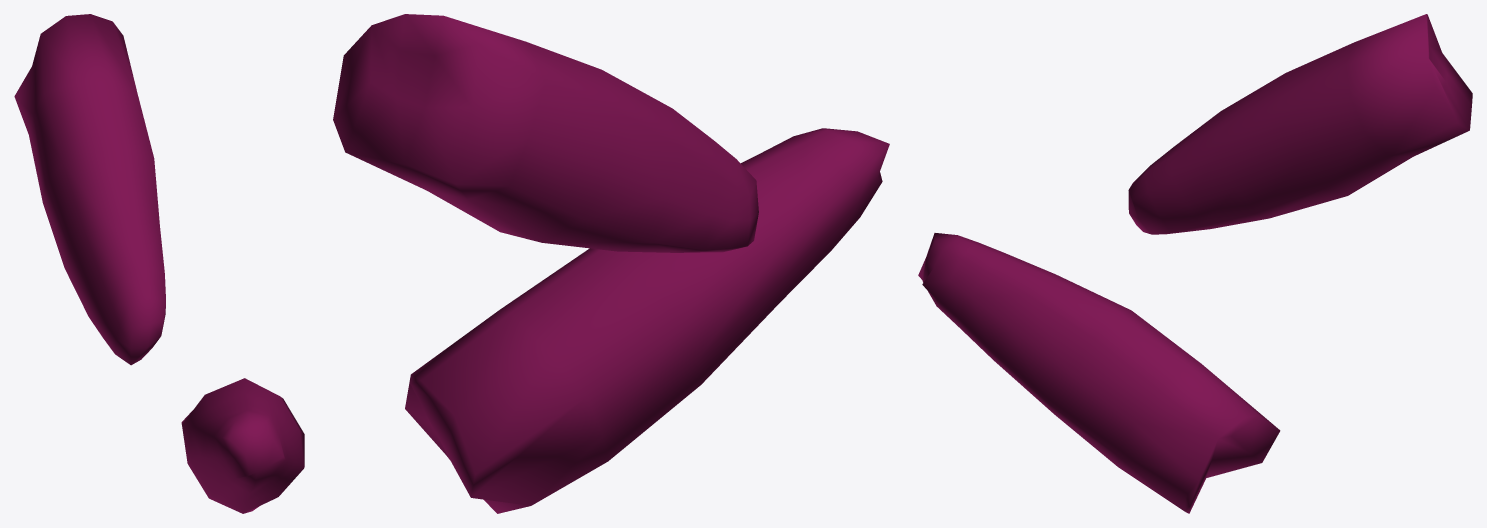
File: SM_Thorn_02_Broken_B.FBX
3 views of the same model, side by side, from view 1: azimuth 30°, elevation 25°; view 2: azimuth 150°, elevation 25°; view 3: azimuth 270°, elevation 25° (orthographic). The views are drawn at different scales.
Visible parts, largest first — view 1: Object003; view 2: Object003; view 3: Object003.
Part boxes in pixels (bbox=[...]): Object003: bbox=[14, 14, 304, 513]; Object003: bbox=[333, 14, 889, 513]; Object003: bbox=[918, 14, 1472, 513].
Bounding box in the file's own units: 193 × 381 × 415.
